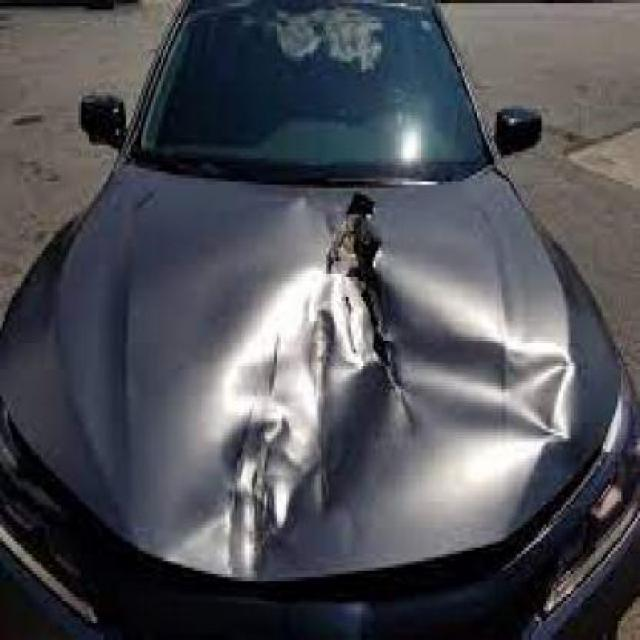damaged-hood: (5, 164, 638, 590)
